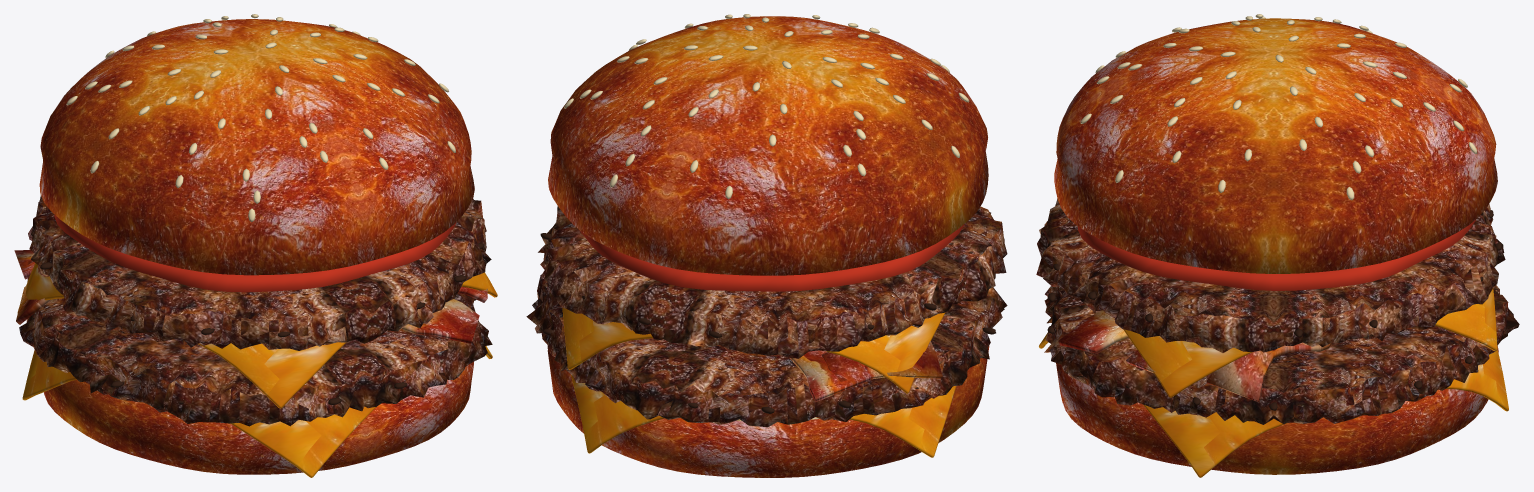
The model's file is smash-bacon.glb.
The picture shows the model from 3 angles, left to right: view 1: azimuth 30°, elevation 25°; view 2: azimuth 150°, elevation 25°; view 3: azimuth 270°, elevation 25°; orthographic projection.
Visible parts, largest first — view 1: Pao_inferior, Carne, Cheddar_derretido, Molho, Gergelim, Fatia_de_bacon, Crosta; view 2: Pao_inferior, Carne, Cheddar_derretido, Molho, Fatia_de_bacon, Gergelim, Crosta; view 3: Pao_inferior, Carne, Cheddar_derretido, Molho, Fatia_de_bacon, Gergelim, Crosta.
Boxes of the visible parts, x1,y1,x2,y2 form: Pao_inferior: (39, 19, 474, 474); Carne: (19, 195, 492, 426); Cheddar_derretido: (17, 263, 497, 477); Molho: (54, 215, 456, 292); Gergelim: (66, 14, 455, 221); Fatia_de_bacon: (14, 250, 487, 343); Crosta: (31, 231, 484, 404); Pao_inferior: (547, 16, 989, 477); Carne: (526, 206, 1007, 427); Cheddar_derretido: (562, 308, 956, 457); Molho: (579, 224, 964, 291); Fatia_de_bacon: (789, 341, 942, 402); Gergelim: (564, 14, 969, 199); Crosta: (540, 212, 995, 413); Pao_inferior: (1054, 18, 1498, 474); Carne: (1036, 198, 1519, 424); Cheddar_derretido: (1039, 288, 1508, 477); Molho: (1077, 219, 1475, 290); Fatia_de_bacon: (1058, 310, 1332, 402); Gergelim: (1080, 14, 1477, 200); Crosta: (1047, 210, 1501, 410).
Size of the model in its own units: 0.146 by 0.118 by 0.146.
Materials: 8 (5 with a texture image).
